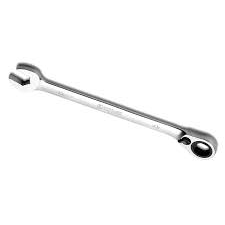wrench: (3, 54, 225, 165)
